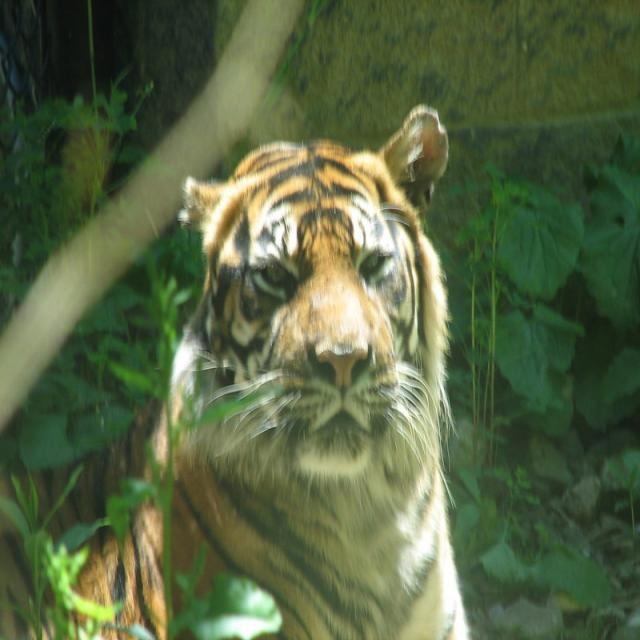Tiger: (29, 101, 470, 639)
